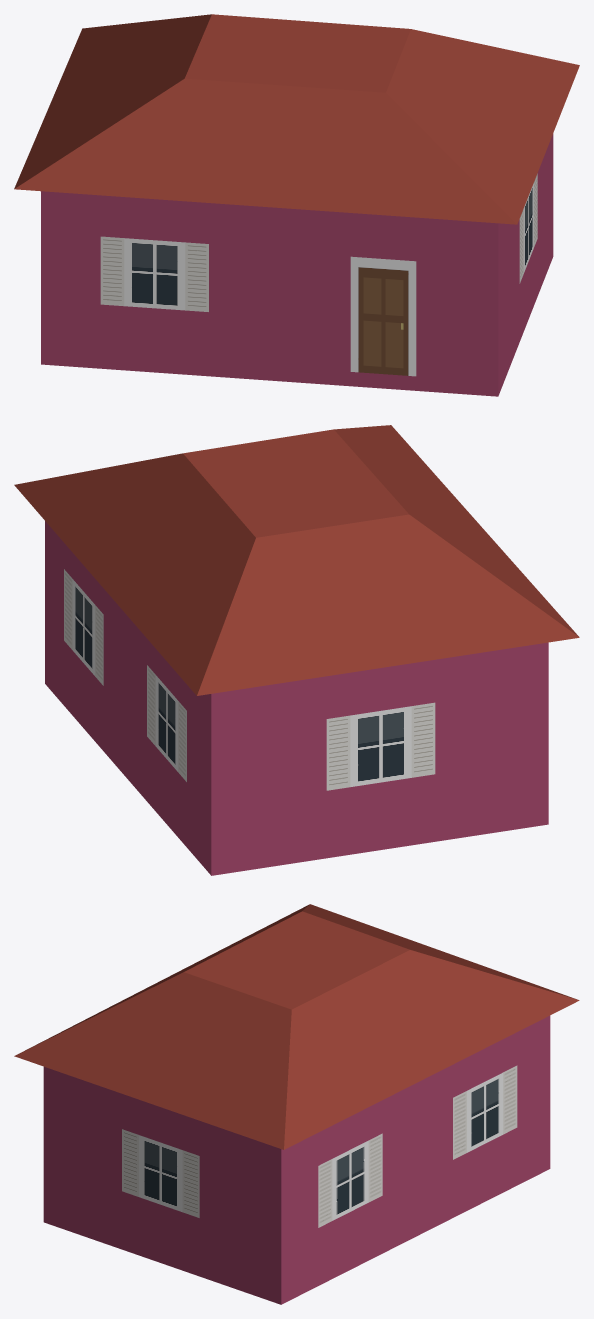
Rendered from msb_sannicolas_23_27.glb.
3 renders of one model, top to bottom at view 1: azimuth 30°, elevation 25°; view 2: azimuth 150°, elevation 25°; view 3: azimuth 270°, elevation 25°, orthographic. The views are drawn at different scales.
Parts seen in each view (by area): view 1: msb_sannicolas_23_27_lod0; view 2: msb_sannicolas_23_27_lod0; view 3: msb_sannicolas_23_27_lod0.
Boxes of the visible parts, x1,y1,x2,y2 form: msb_sannicolas_23_27_lod0: (14,14,579,396); msb_sannicolas_23_27_lod0: (14,425,579,875); msb_sannicolas_23_27_lod0: (14,904,579,1304).
Size of what is drawn, in the model's own units: 11.03 by 4.9 by 10.73.
Materials: 2 (1 with a texture image).
